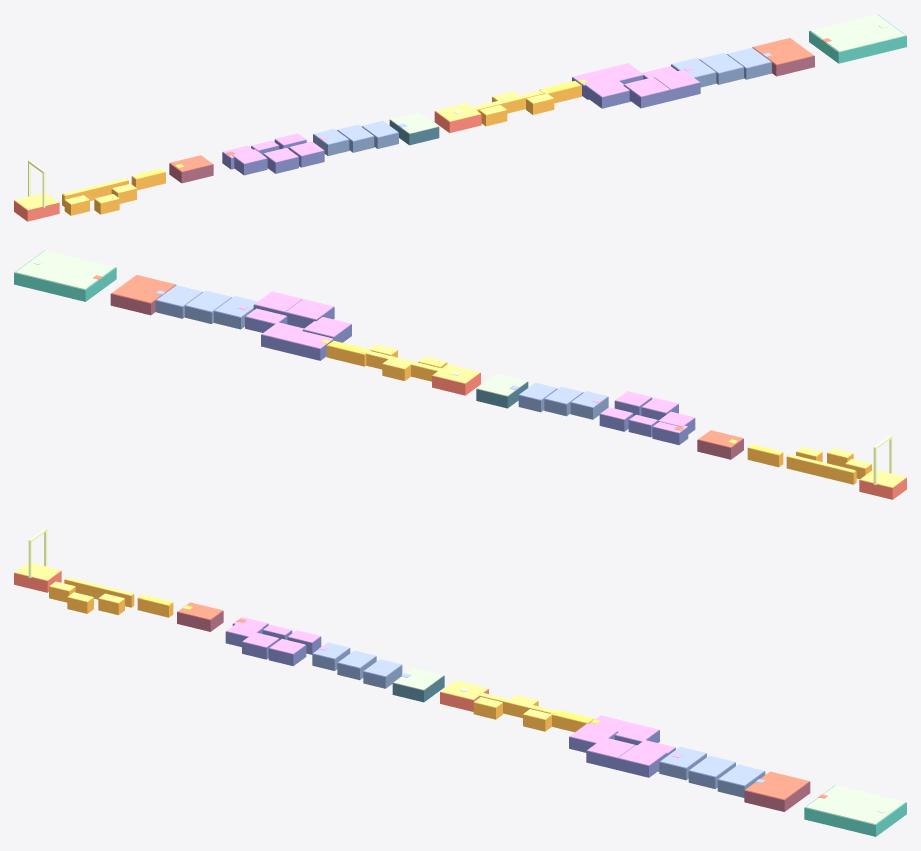
3 views of the same model, one above another, from view 1: azimuth 30°, elevation 25°; view 2: azimuth 150°, elevation 25°; view 3: azimuth 330°, elevation 25° (orthographic). The views are drawn at different scales.
Parts seen in each view (by area): view 1: ArenaV2TopCap:kz-s01-start, ArenaV2Surface:kz-s01-start, ArenaV2TopCap:kz-s02-landing, ArenaV2Surface:kz-s06-finish, ArenaV2TopCap:kz-s07-breather, ArenaV2Surface:kz-s07-breather, ArenaV2Surface:kz-s04-safe-c, ArenaV2Surface:kz-s02-landing, ArenaV2Surface:kz-s12-finish, ArenaV2Surface:kz-s10-landing, ArenaV2TopCap:kz-s04-safe-b, ArenaV2TopCap:kz-s04-safe-a (+8 smaller); view 2: ArenaV2TopCap:kz-s01-start, ArenaV2Surface:kz-s01-start, ArenaV2TopCap:kz-s02-landing, ArenaV2Surface:kz-s12-fast-wire, ArenaV2TopCap:kz-s07-breather, ArenaV2Surface:kz-s06-finish, ArenaV2Surface:kz-s07-breather, ArenaV2Surface:kz-s02-landing, ArenaV2Surface:kz-s12-finish, ArenaV2Surface:kz-s10-landing, ArenaV2TopCap:kz-s04-safe-a, ArenaV2TopCap:kz-s04-safe-b (+6 smaller); view 3: ArenaV2TopCap:kz-s01-start, ArenaV2Surface:kz-s01-start, ArenaV2TopCap:kz-s02-landing, ArenaV2Surface:kz-s02-landing, ArenaV2Surface:kz-s07-breather, ArenaV2TopCap:kz-s07-breather.
Part boxes in pixels (x1,y1,x2,y2): ArenaV2TopCap:kz-s01-start: [810, 14, 905, 51]; ArenaV2Surface:kz-s01-start: [809, 14, 906, 63]; ArenaV2TopCap:kz-s02-landing: [752, 38, 813, 64]; ArenaV2Surface:kz-s06-finish: [434, 111, 481, 133]; ArenaV2TopCap:kz-s07-breather: [390, 112, 438, 133]; ArenaV2Surface:kz-s07-breather: [389, 120, 439, 145]; ArenaV2Surface:kz-s04-safe-c: [584, 85, 630, 108]; ArenaV2Surface:kz-s02-landing: [752, 47, 814, 76]; ArenaV2Surface:kz-s12-finish: [14, 200, 59, 221]; ArenaV2Surface:kz-s10-landing: [169, 163, 213, 183]; ArenaV2TopCap:kz-s04-safe-b: [624, 77, 669, 96]; ArenaV2TopCap:kz-s04-safe-a: [654, 70, 699, 89]; ArenaV2TopCap:kz-s01-start: [15, 250, 114, 289]; ArenaV2Surface:kz-s01-start: [14, 250, 116, 301]; ArenaV2TopCap:kz-s02-landing: [111, 275, 175, 303]; ArenaV2Surface:kz-s12-fast-wire: [786, 454, 856, 484]; ArenaV2TopCap:kz-s07-breather: [477, 374, 527, 396]; ArenaV2Surface:kz-s06-finish: [432, 372, 480, 395]; ArenaV2Surface:kz-s07-breather: [476, 382, 528, 408]; ArenaV2Surface:kz-s02-landing: [110, 284, 176, 315]; ArenaV2Surface:kz-s12-finish: [859, 477, 906, 499]; ArenaV2Surface:kz-s10-landing: [697, 438, 743, 459]; ArenaV2TopCap:kz-s04-safe-a: [254, 291, 302, 311]; ArenaV2TopCap:kz-s04-safe-b: [286, 299, 333, 319]; ArenaV2TopCap:kz-s01-start: [806, 785, 905, 824]; ArenaV2Surface:kz-s01-start: [804, 785, 906, 836]; ArenaV2TopCap:kz-s02-landing: [745, 771, 809, 799]; ArenaV2Surface:kz-s02-landing: [744, 781, 810, 811]; ArenaV2Surface:kz-s07-breather: [392, 675, 444, 702]; ArenaV2TopCap:kz-s07-breather: [393, 667, 443, 690].
Bounding box in the file's own units: 79.7 × 5.25 × 7.89.
